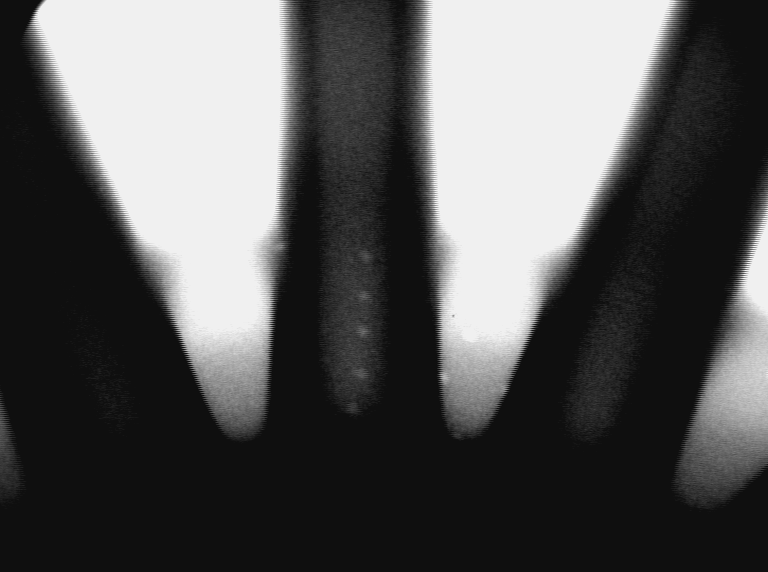defect: (339, 394, 364, 420)
